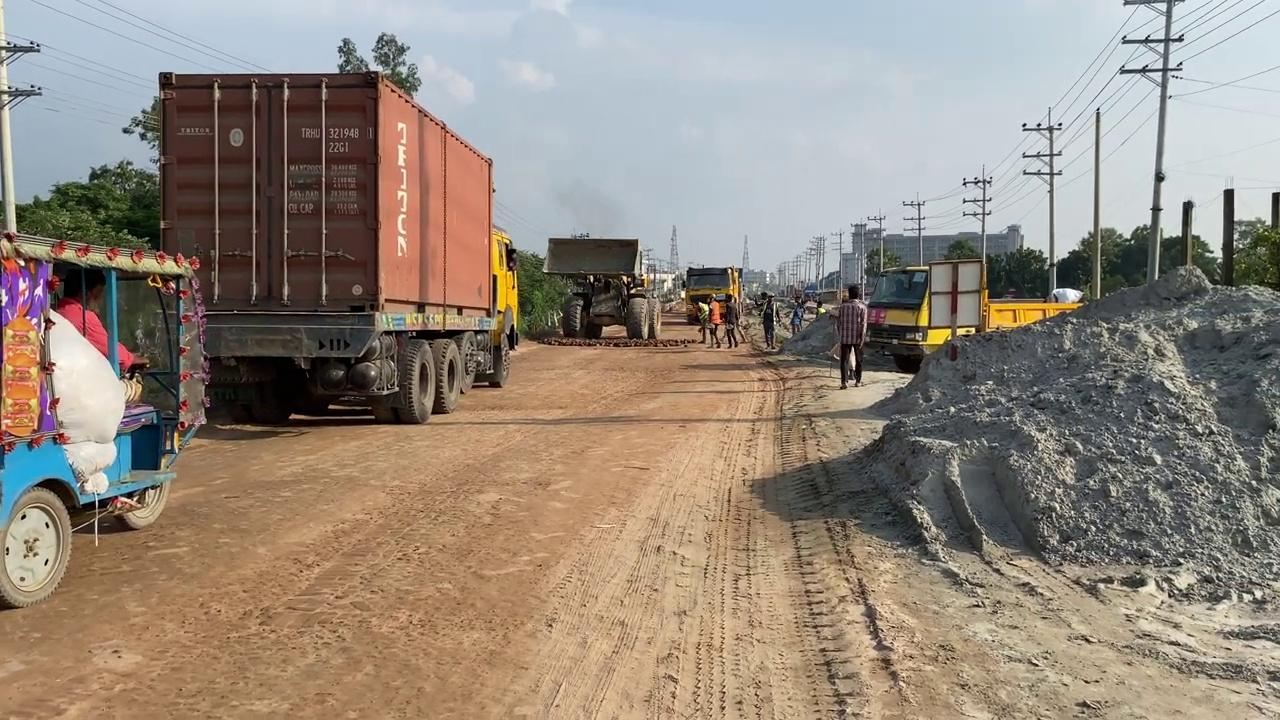Garbage: (867, 270, 1279, 604)
Obstacle: (155, 68, 517, 425), (0, 228, 209, 608)
Pole: (1091, 107, 1102, 299)
Tree: (1, 67, 519, 608), (864, 257, 1085, 372), (541, 234, 661, 340), (458, 225, 519, 387), (682, 264, 742, 324), (652, 272, 680, 308)
